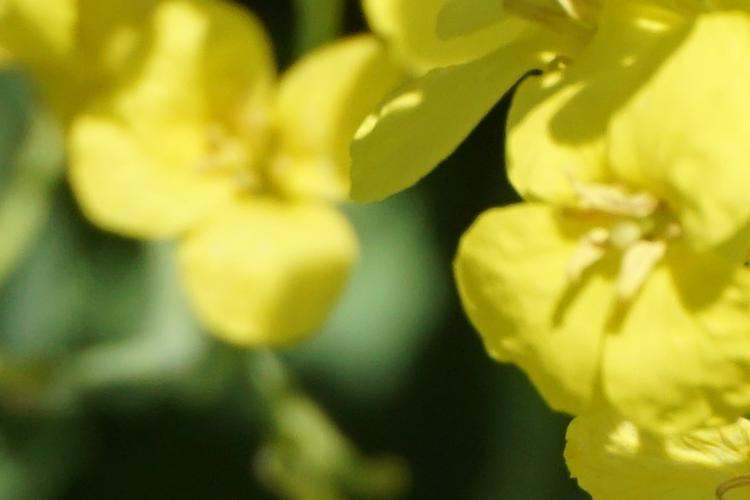yellow: (82, 16, 390, 334), (499, 72, 746, 462), (417, 17, 749, 257)
